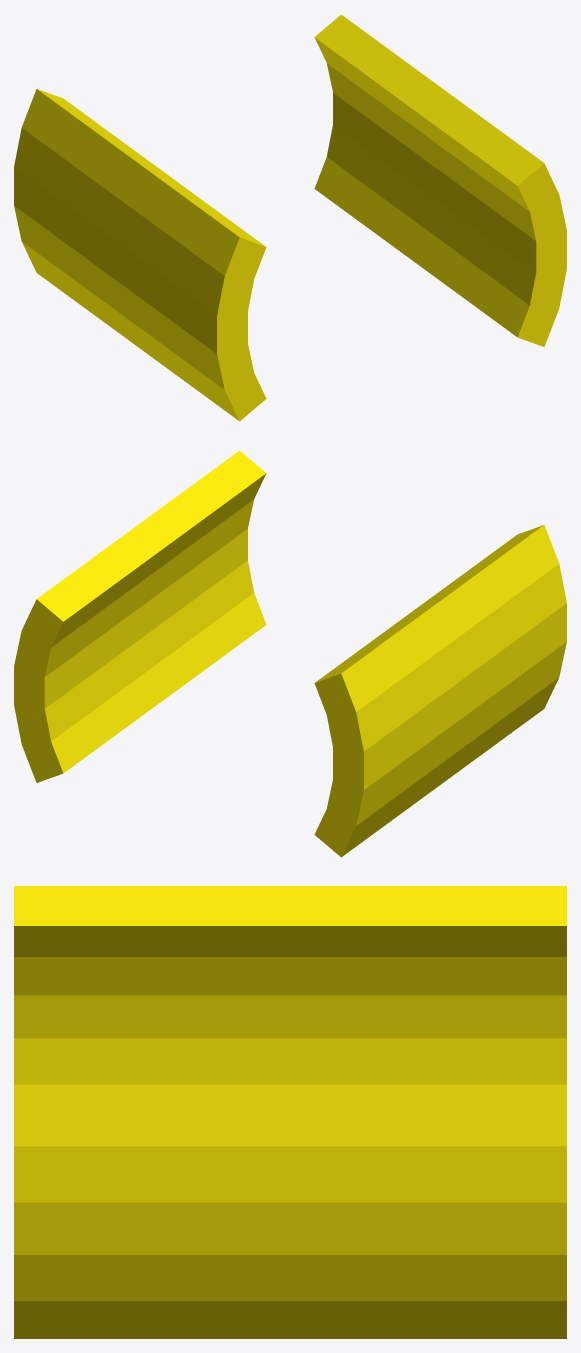
Rendered from BF_Reactor_Shield_Stabiliser_Inner.obj.
3 views of the same model, one above another, from view 1: azimuth 30°, elevation 25°; view 2: azimuth 150°, elevation 25°; view 3: azimuth 270°, elevation 25° (orthographic). The views are drawn at different scales.
Parts seen in each view (by area): view 1: Cylinder; view 2: Cylinder; view 3: Cylinder.
Boxes of the visible parts, box(x1,y1,x2,y2) form: Cylinder: box(14, 14, 566, 421); Cylinder: box(14, 450, 566, 857); Cylinder: box(14, 886, 566, 1338).
Bounding box in the file's own units: 1.99 × 1 × 2.
Materials: 1 (1 with a texture image).
